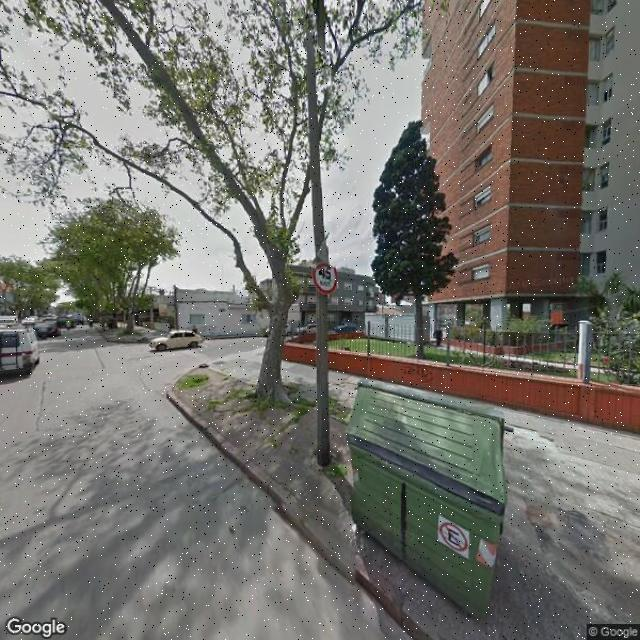garbage container: (340, 371, 532, 632)
